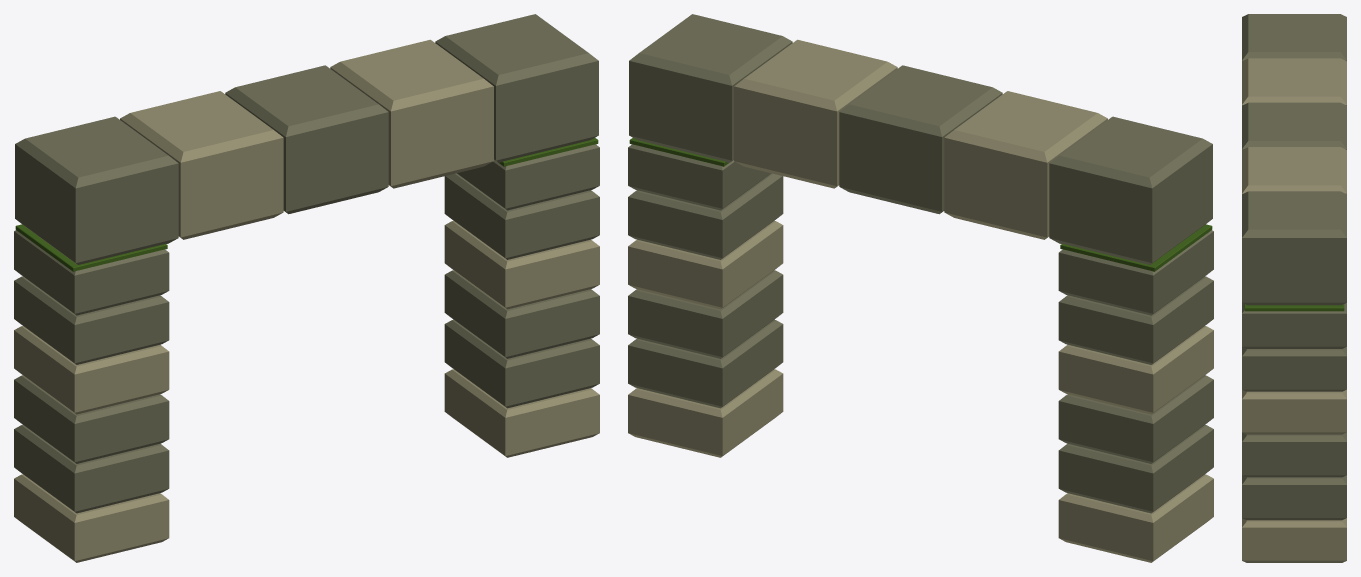
The model's file is ruin_gateway.obj.
3 renders of one model, left to right at view 1: azimuth 30°, elevation 25°; view 2: azimuth 150°, elevation 25°; view 3: azimuth 270°, elevation 25°, orthographic. The views are drawn at different scales.
Visible parts, largest first — view 1: ruin_gateway; view 2: ruin_gateway; view 3: ruin_gateway.
Boxes of the visible parts, x1,y1,x2,y2 form: ruin_gateway: (14,14,599,562); ruin_gateway: (628,14,1213,562); ruin_gateway: (1242,14,1346,562).
Bounding box in the file's own units: 10 × 6.99 × 2.
